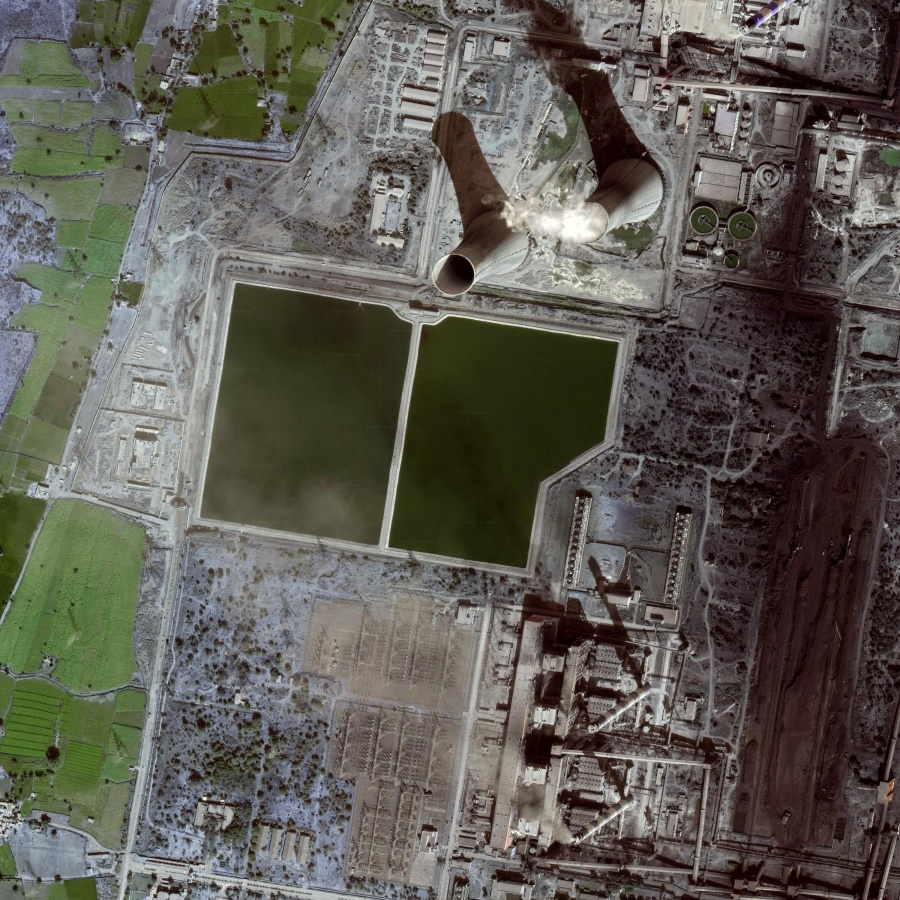PowerPlant: (187, 278, 626, 586)
